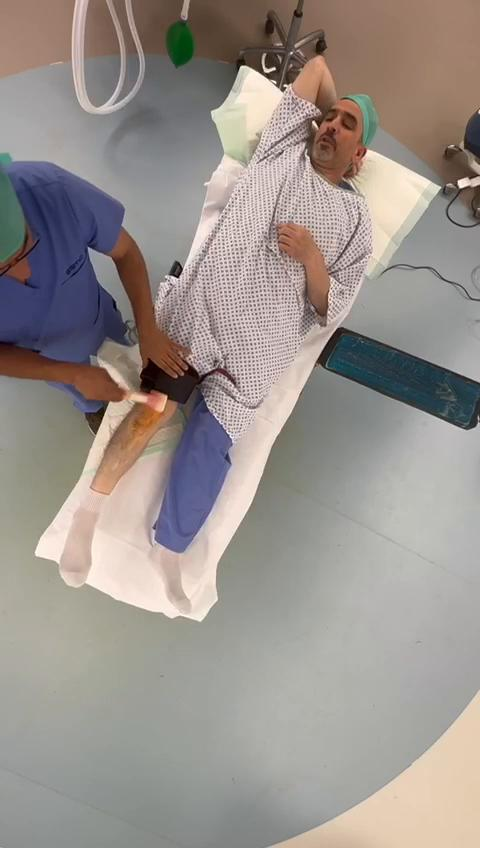bed: (40, 66, 434, 619)
patient: (60, 56, 378, 612)
prepstick: (124, 391, 167, 412)
tourniquet: (141, 359, 200, 404)
